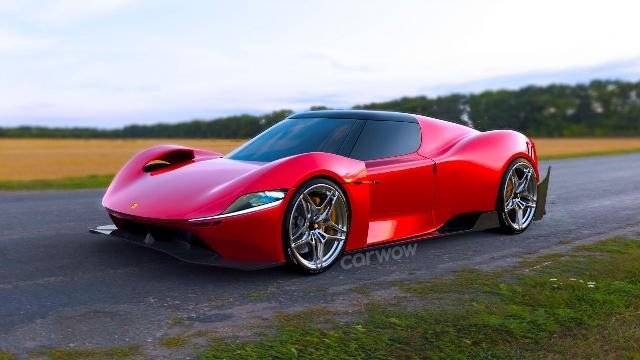ferrari: (89, 108, 552, 276)
